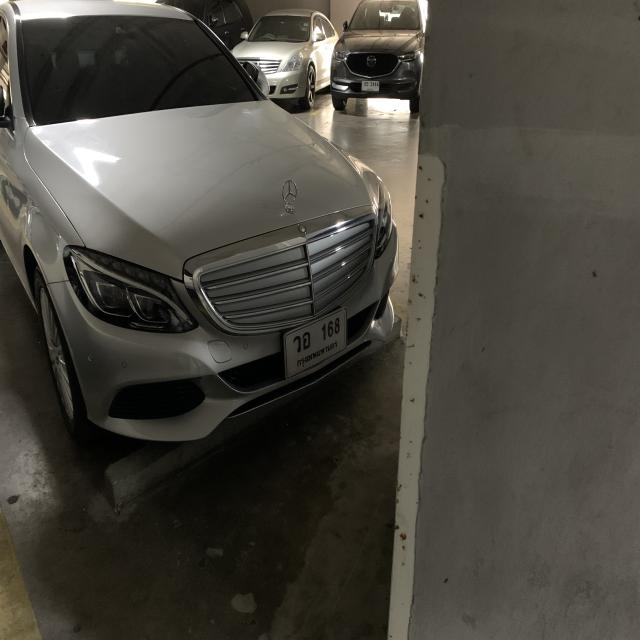license_plate: (280, 305, 351, 382)
